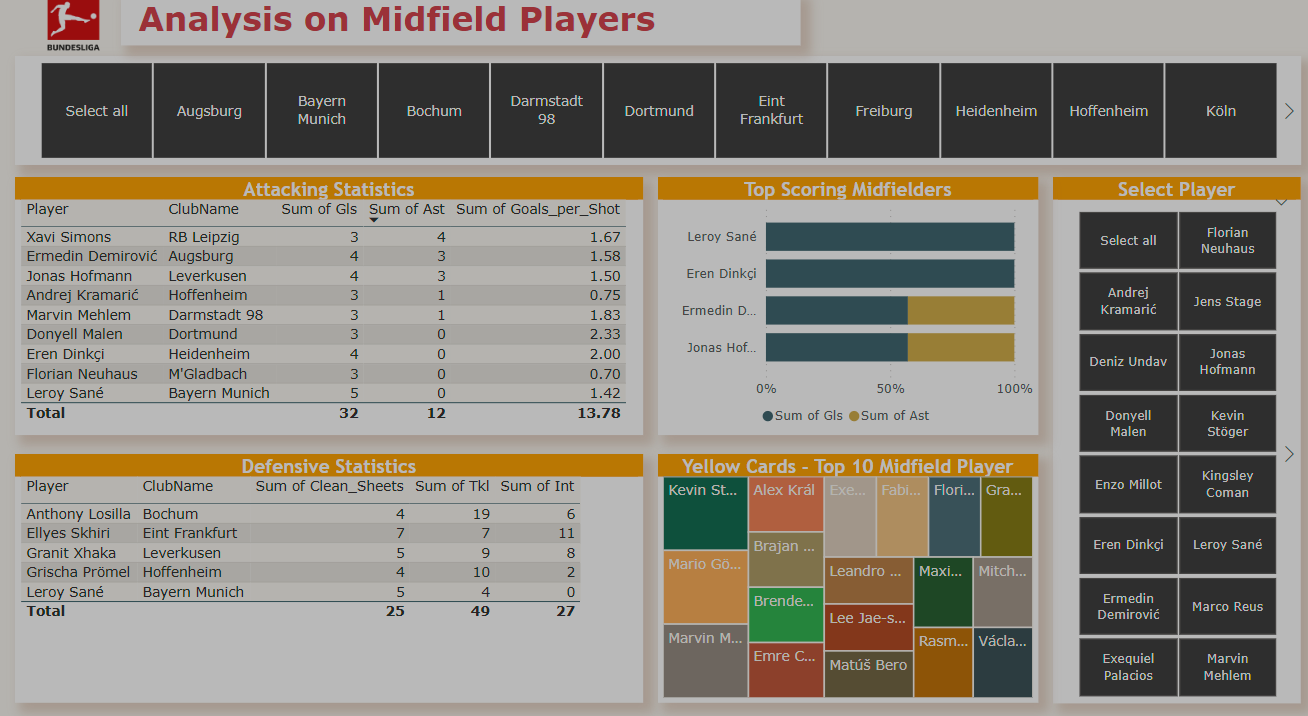

The page's visual inventory and layout, read from the dashboard file:
{"tool":"powerbi","page":{"name":"Analysis on midfield Player","canvas":[1280,720],"ordinal":3},"visuals":[{"type":"slicer","fields":{"Values":["Bundesliga_2023-2024_player_data.ClubName"]},"box":[22.4,61.3,1250.8,106],"z":0},{"type":"textbox","box":[125.5,0,661.4,50.6],"z":1000},{"type":"image","box":[10.7,0,136.2,61.3],"z":2000},{"type":"slicer","title":"Select Player","fields":{"Values":["Bundesliga_2023-2024_player_data.Player"]},"box":[1032,179,241.2,511.6],"z":3000},{"type":"tableEx","title":"Attacking Statistics","fields":{"Values":["Bundesliga_2023-2024_player_data.Player","Bundesliga_2023-2024_player_data.ClubName","Sum(Bundesliga_2023-2024_player_data.Gls)","Sum(Bundesliga_2023-2024_player_data.Ast)","Sum(Bundesliga_2023-2024_player_data.Goals_per_Shot)"]},"box":[22.4,179,610.8,250.9],"z":4000},{"type":"tableEx","title":"Defensive Statistics","fields":{"Values":["Bundesliga_2023-2024_player_data.Player","Bundesliga_2023-2024_player_data.ClubName","Sum(Bundesliga_2023-2024_player_data.Clean_Sheets)","Sum(Bundesliga_2023-2024_player_data.Tkl)","Sum(Bundesliga_2023-2024_player_data.Int)"]},"box":[22.4,448.4,610.8,242.2],"z":5000},{"type":"hundredPercentStackedBarChart","title":"Top Scoring Midfielders","fields":{"Category":["Bundesliga_2023-2024_player_data.Player"],"Y":["Sum(Bundesliga_2023-2024_player_data.Gls)","Sum(Bundesliga_2023-2024_player_data.Ast)"]},"box":[647.8,179,369.6,250.9],"z":6000},{"type":"treemap","title":"Yellow Cards - Top 10 Midfield Player","fields":{"Group":["Bundesliga_2023-2024_player_data.Player"],"Values":["Sum(Bundesliga_2023-2024_player_data.CrdY)"]},"box":[647.8,448.4,369.6,242.2],"z":7000}]}

Visuals, with their boxes in screenshot pixels (x1, y1, x2, y2), scaled from the page's 1280x720 canvas onto the 1308x716 screenshot:
slicer - Bundesliga_2023-2024_player_data.ClubName: 23,61,1301,166
textbox: 128,0,804,50
image: 11,0,150,61
"Select Player" slicer: 1055,178,1301,687
"Attacking Statistics" tableEx: 23,178,647,428
"Defensive Statistics" tableEx: 23,446,647,687
"Top Scoring Midfielders" hundredPercentStackedBarChart: 662,178,1040,428
"Yellow Cards - Top 10 Midfield Player" treemap: 662,446,1040,687
